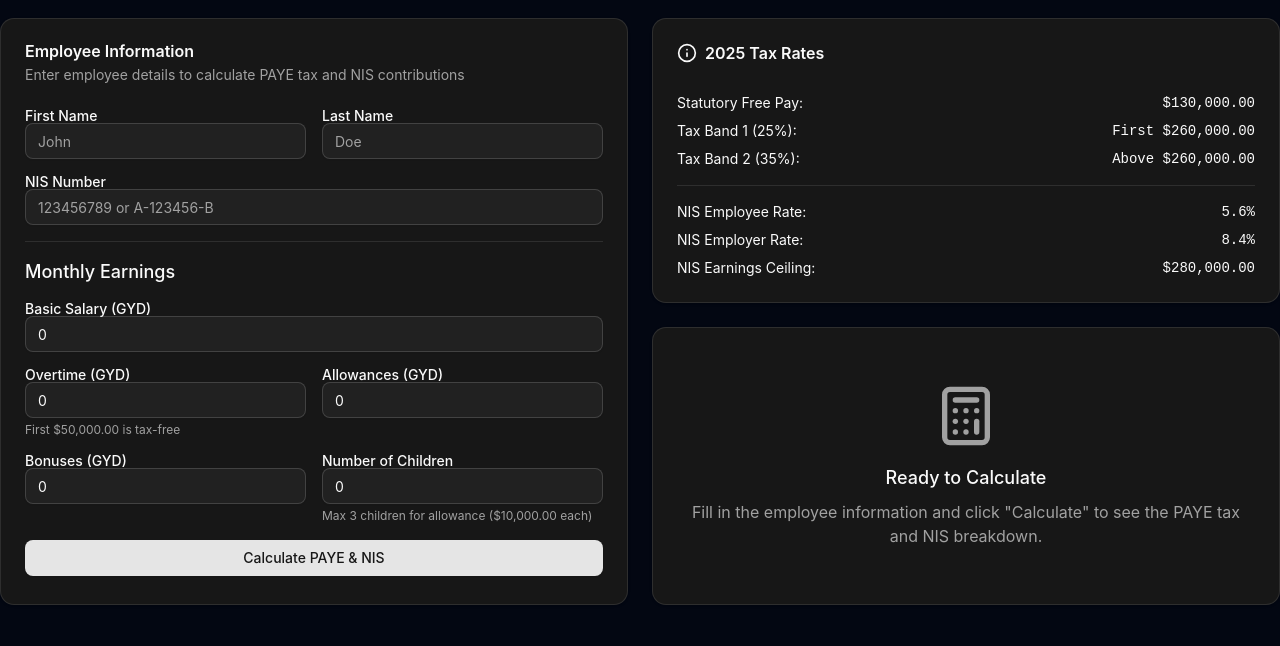
Scenario: React Components › PayeCalculator Component › should display calculation results correctly
The image size is (1280, 646).
// Fill form and calculate
Type "Test" into the field labelled "First Name" at (166, 141), box [25,123,306,159]
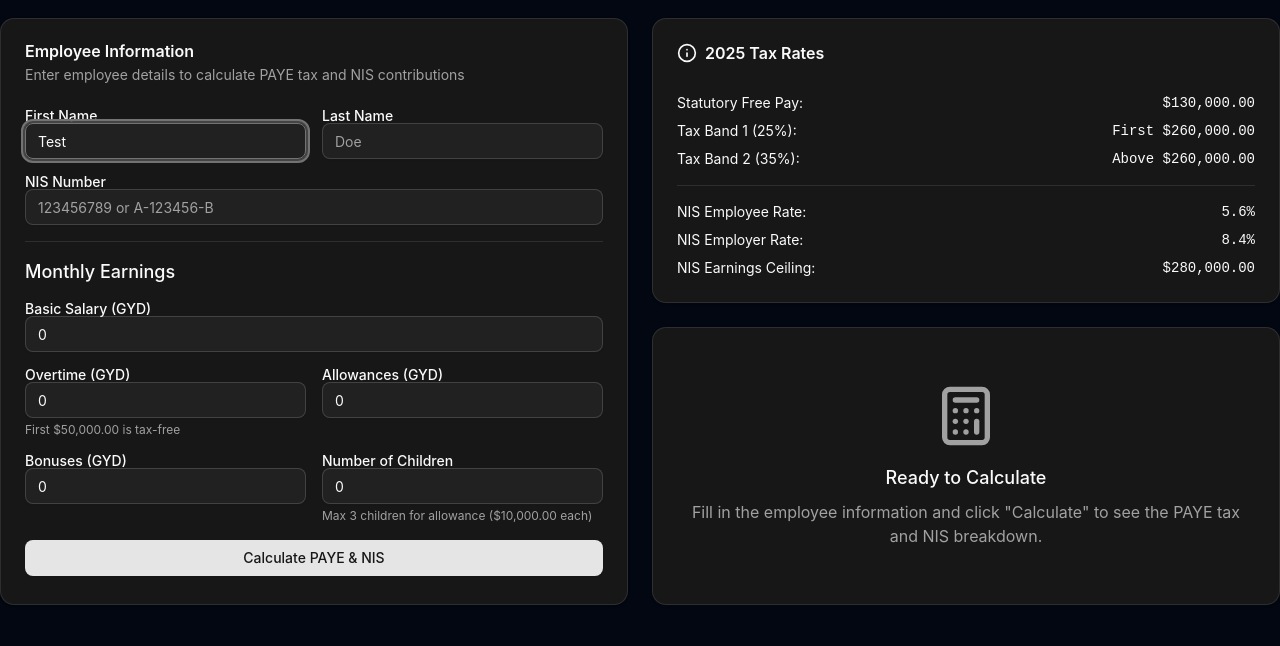
Type "Employee" into the field labelled "Last Name" at (462, 141), box [322,123,603,159]
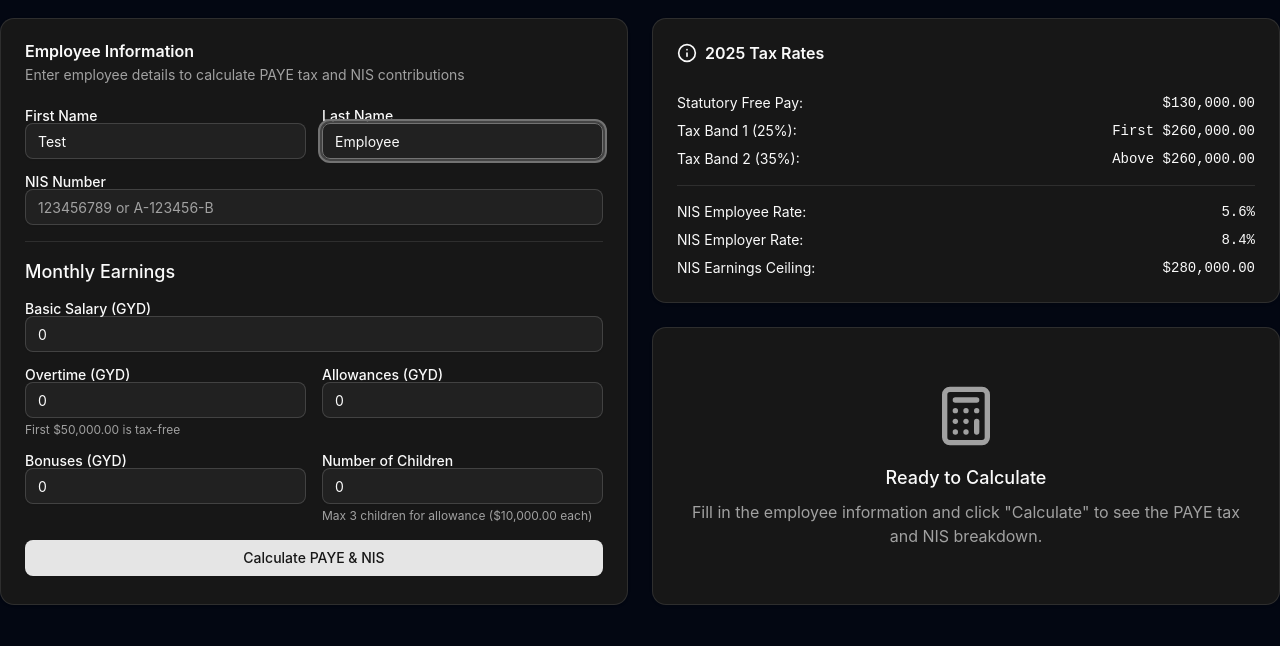
Type "A12345678" into the field labelled "NIS Number" at (314, 207), box [25,189,603,225]
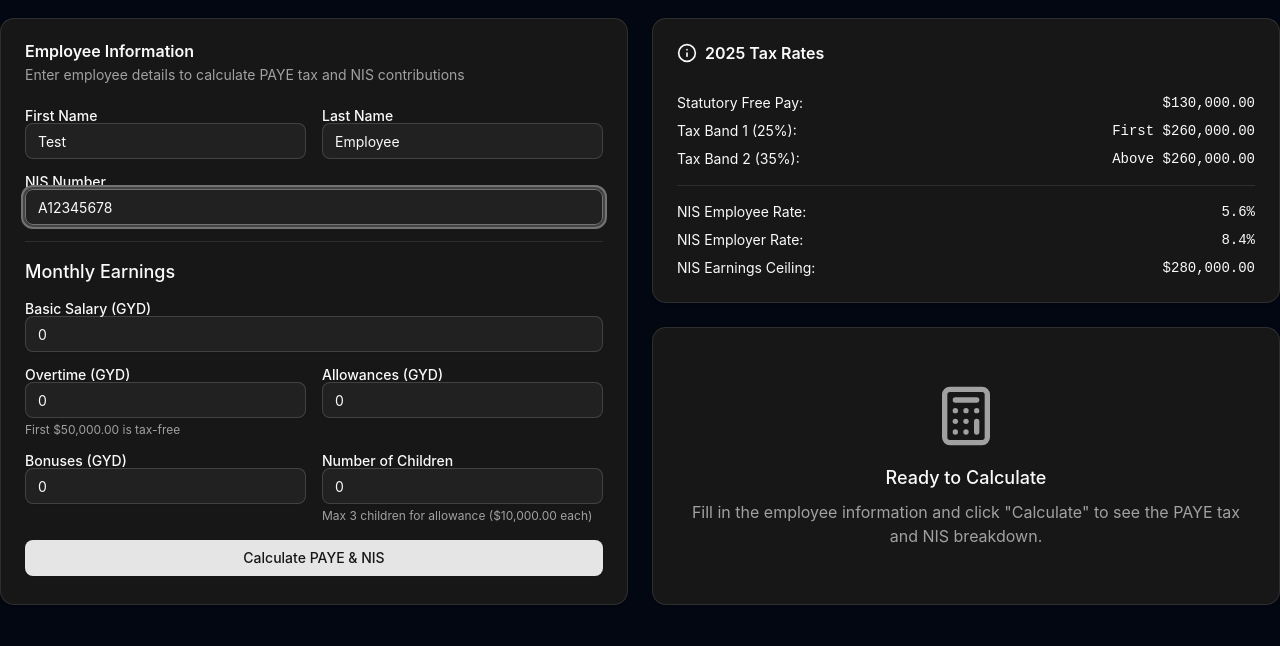
Replace the text in the number field labelled "Basic Salary (GYD)" with "200000" at (314, 334), box [25,316,603,352]
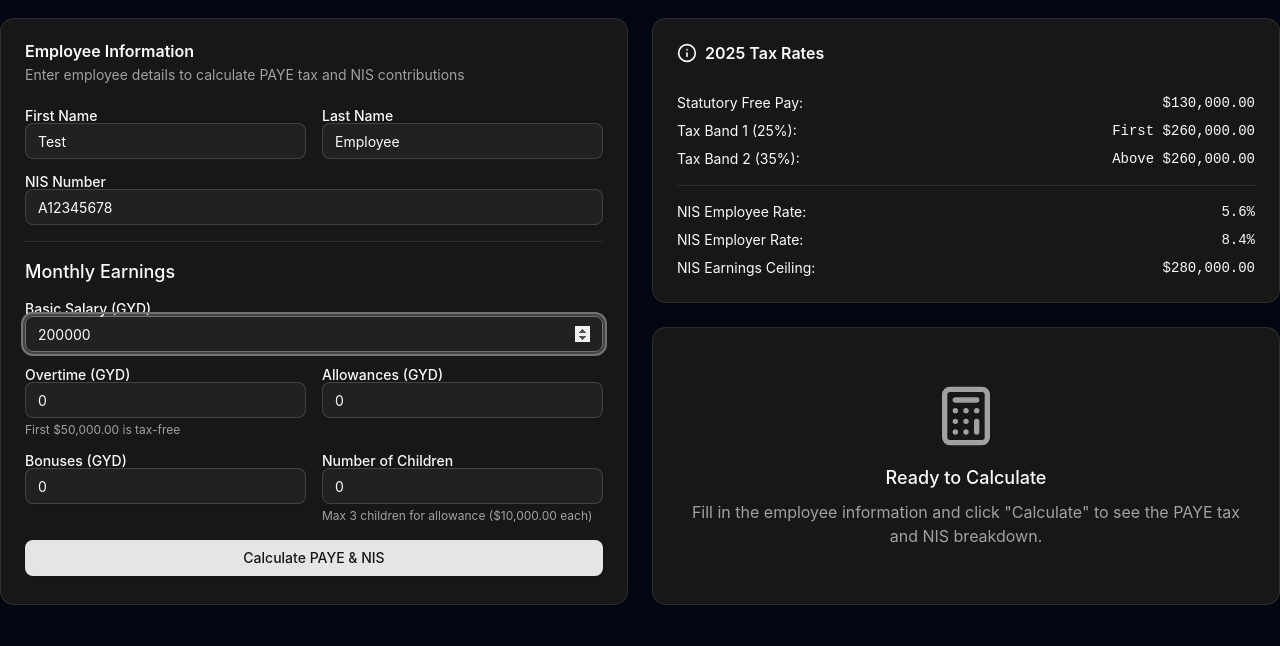
Click the button "Calculate PAYE & NIS" at (314, 558), box [25,540,603,576]
(page scrolled)
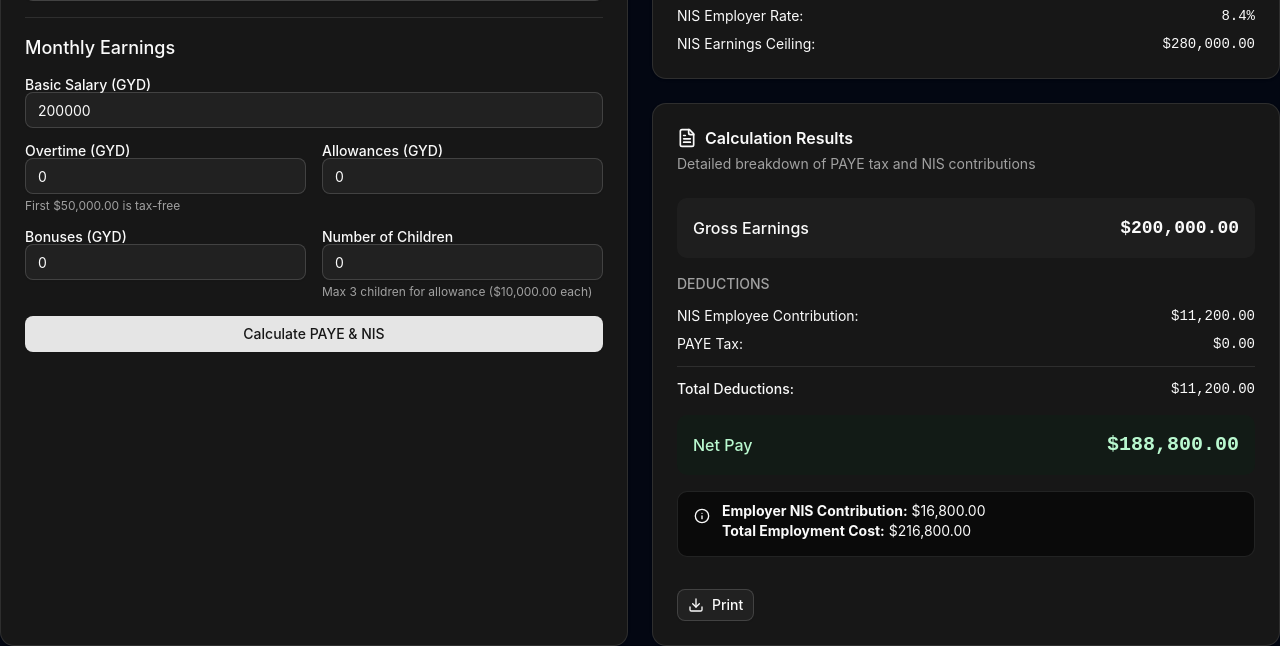
expect the text "Calculation Results" is shown: met, box [677,128,853,148]
expect the text "NIS Employee Contribution:" is shown: met, box [677,306,859,326]
expect the text "PAYE Tax:" is shown: met, box [677,334,743,354]
